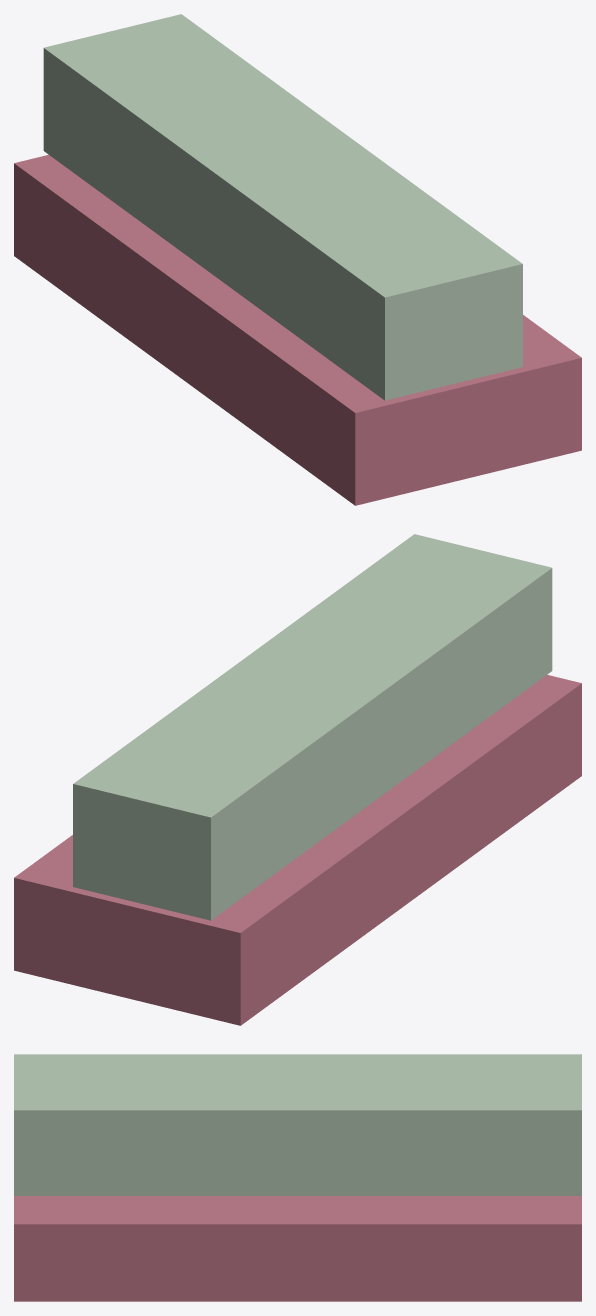
File: 199523_pred.glb
3 views of the same model, one above another, from view 1: azimuth 30°, elevation 25°; view 2: azimuth 150°, elevation 25°; view 3: azimuth 270°, elevation 25° (orthographic). The views are drawn at different scales.
Parts seen in each view (by area): view 1: world; view 2: world; view 3: world.
Part boxes in pixels (x1,y1,x2,y2): world: (14, 14, 581, 505); world: (14, 534, 581, 1025); world: (14, 1054, 581, 1301).
Bounding box in the file's own units: 2.3 × 1.95 × 6.
